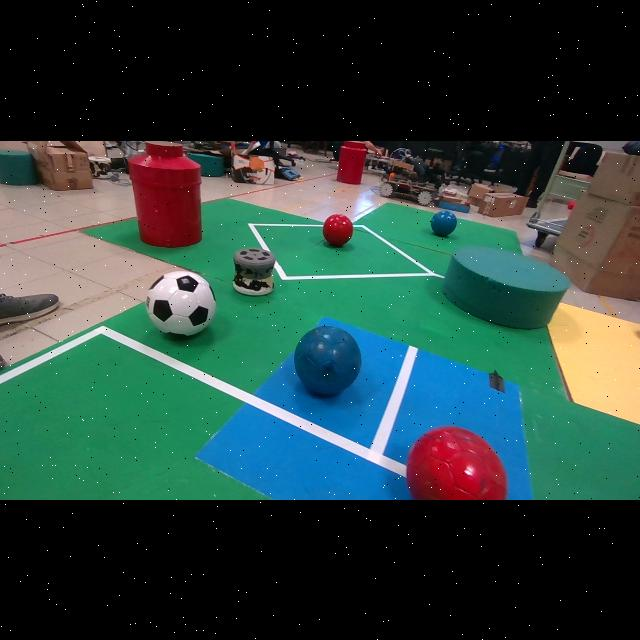B: (295, 326, 361, 395), (431, 210, 457, 236)
R: (406, 425, 507, 500), (322, 213, 354, 245)
